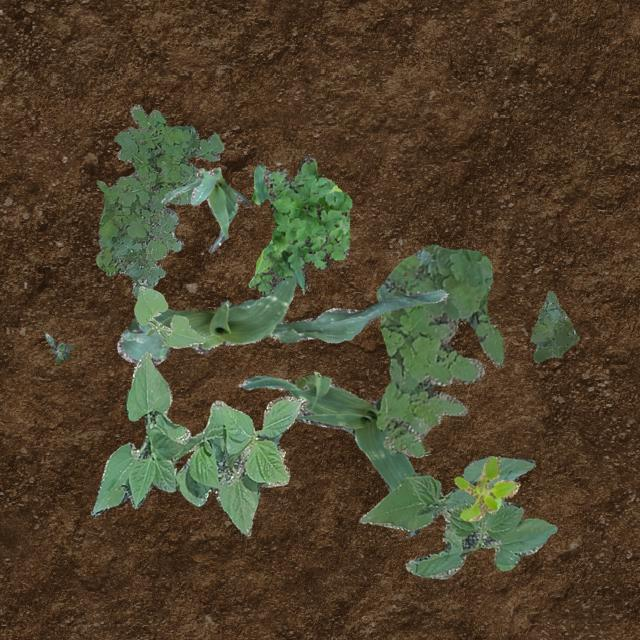crop: (90, 350, 306, 534), (238, 370, 432, 534), (116, 276, 447, 364), (358, 454, 556, 578), (160, 166, 248, 252), (133, 286, 205, 348)
weed: (374, 243, 502, 457), (95, 104, 224, 298), (248, 156, 350, 296), (452, 454, 518, 520), (530, 289, 578, 362), (44, 332, 70, 362)
